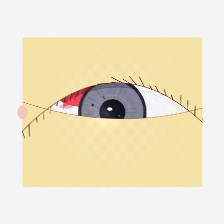hemorrhage_spot: (46, 62, 130, 129)
